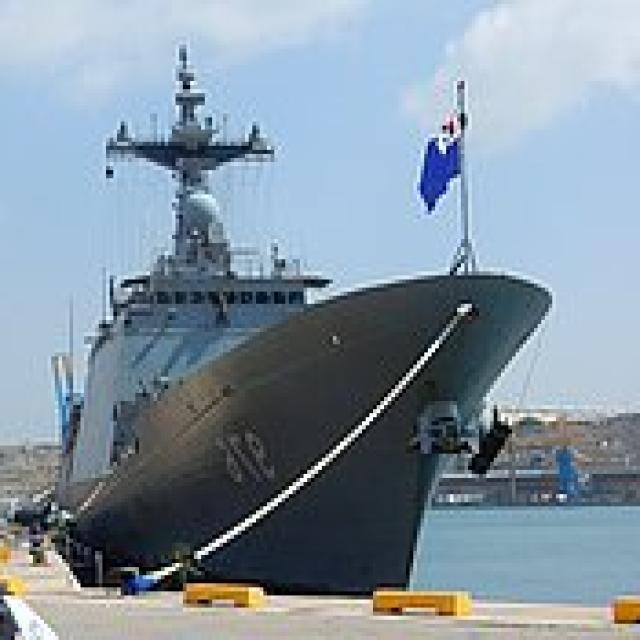Warship: (44, 32, 563, 588)
